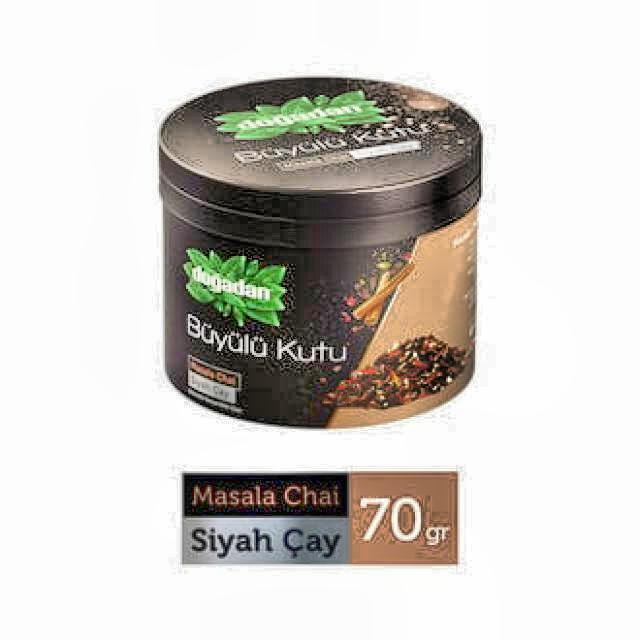plastic: (160, 78, 483, 431)
